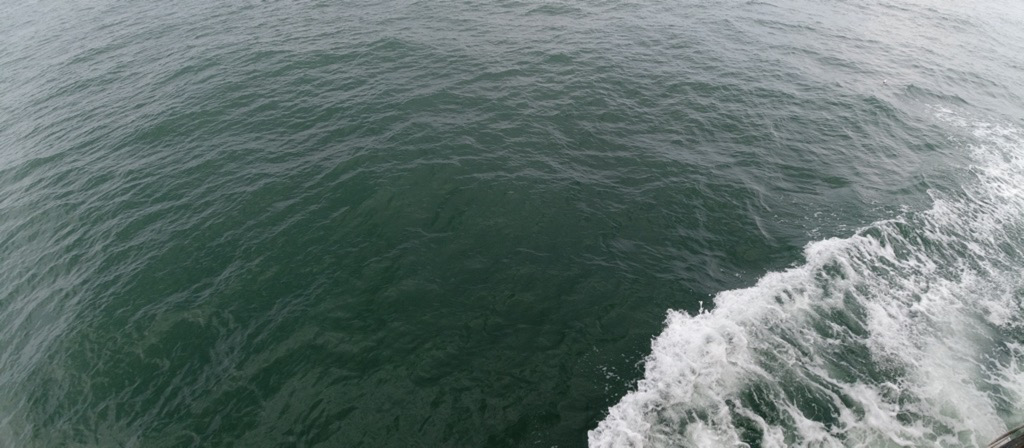plastic: (879, 75, 891, 88)
